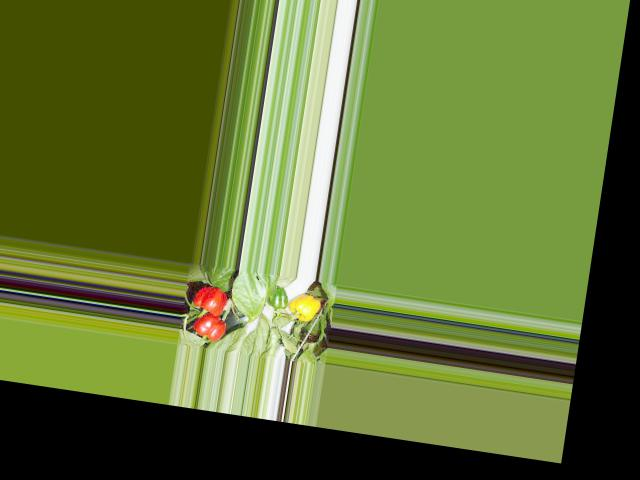bell_pepper: (285, 289, 325, 325)
